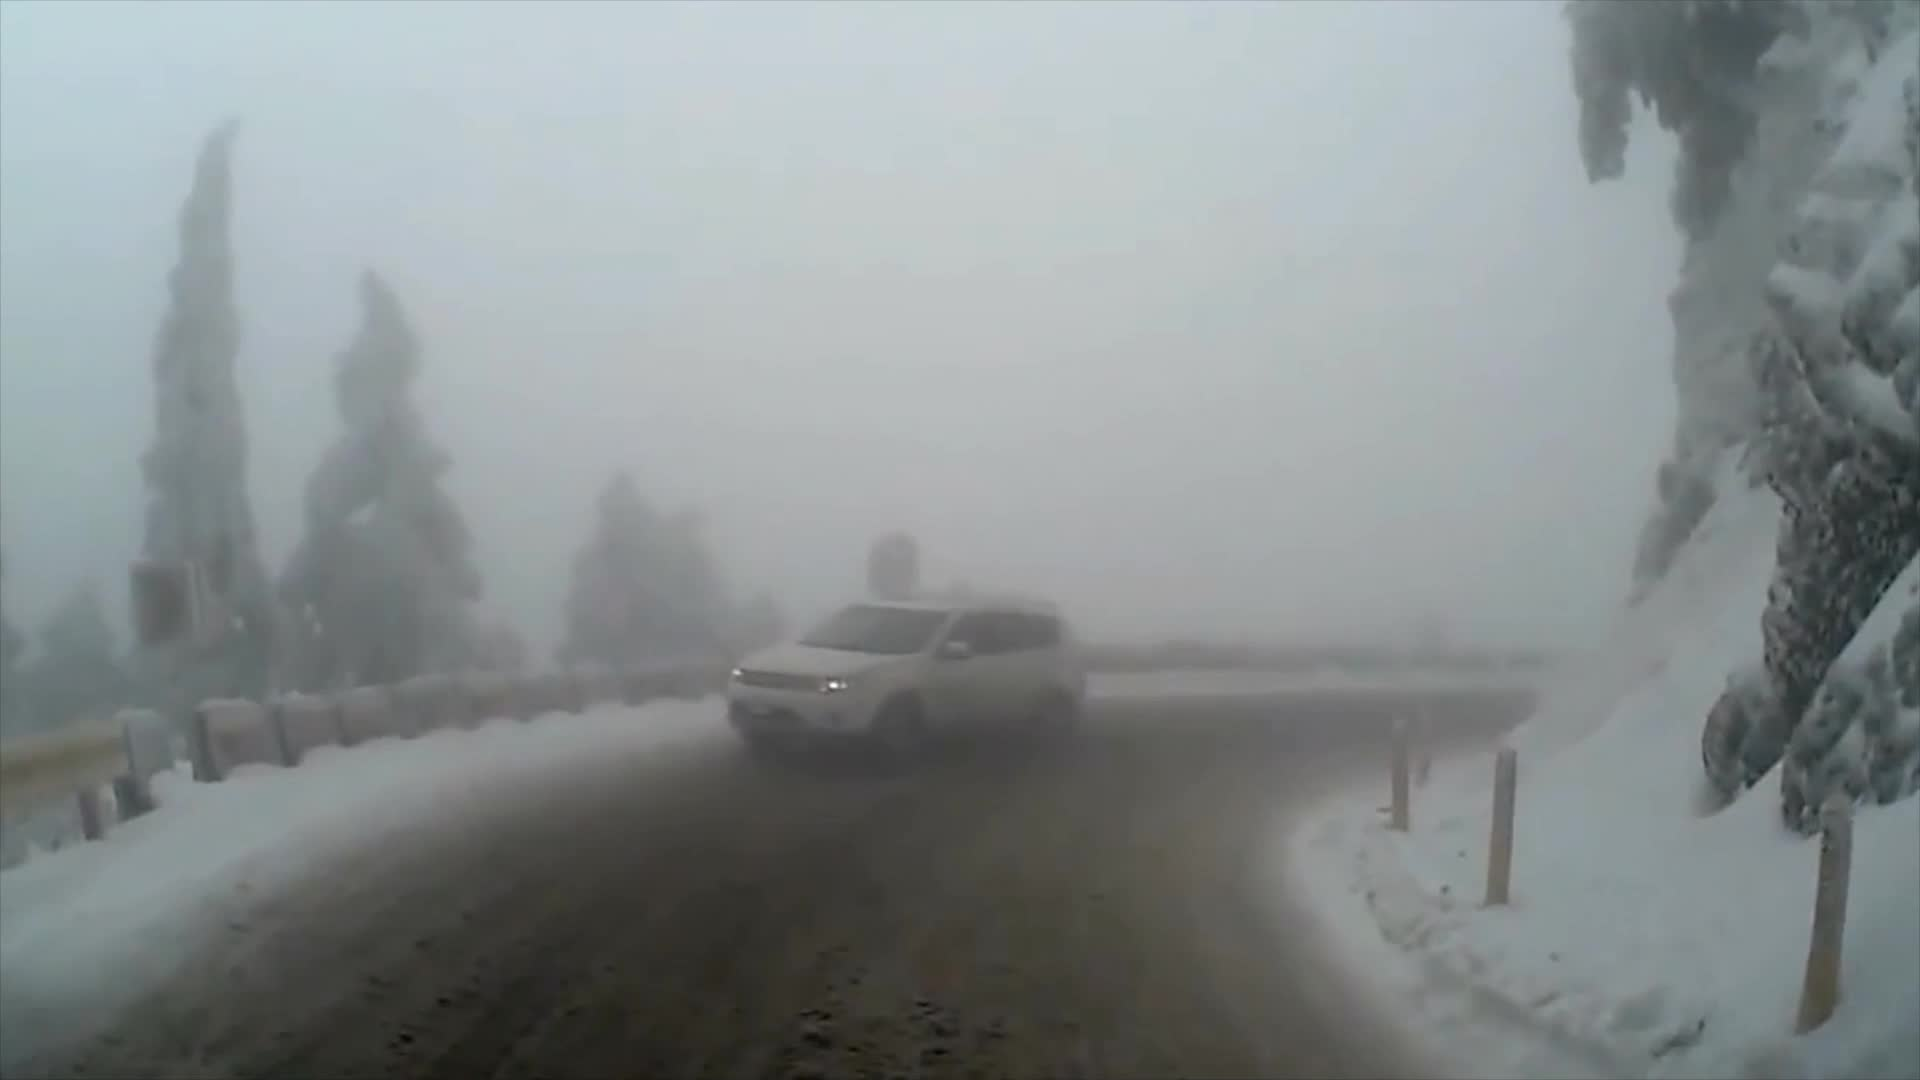vehicle: (723, 593, 1083, 781)
